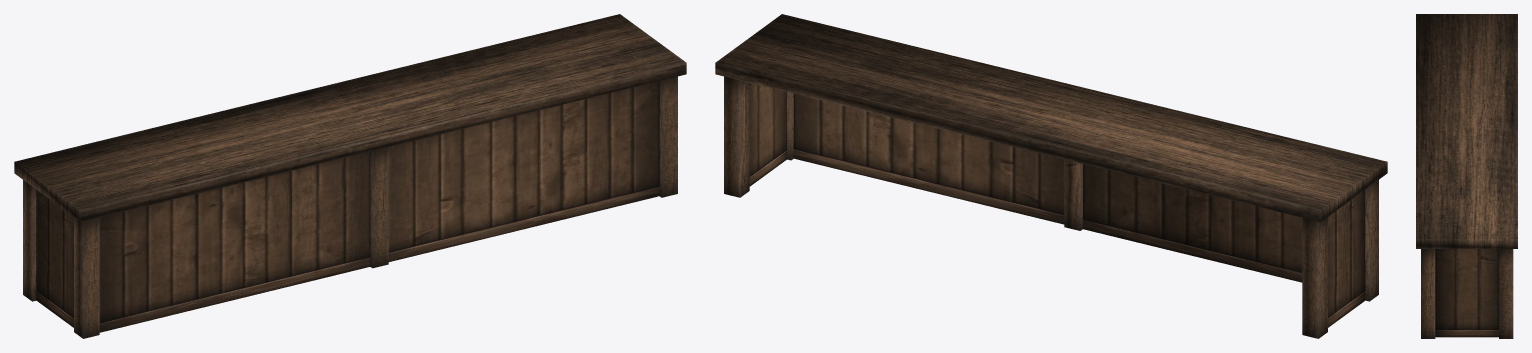
File: Tv_Counter.glb
3 renders of one model, left to right at view 1: azimuth 30°, elevation 25°; view 2: azimuth 150°, elevation 25°; view 3: azimuth 270°, elevation 25°, orthographic. The views are drawn at different scales.
Visible parts, largest first — view 1: bar_counter; view 2: bar_counter; view 3: bar_counter.
Boxes of the visible parts, x1,y1,x2,y2 form: bar_counter: [14, 14, 686, 338]; bar_counter: [715, 14, 1387, 338]; bar_counter: [1416, 14, 1517, 338].
Bounding box in the file's own units: 4.2 × 0.8752 × 0.8009.
Materials: 1 (1 with a texture image).
